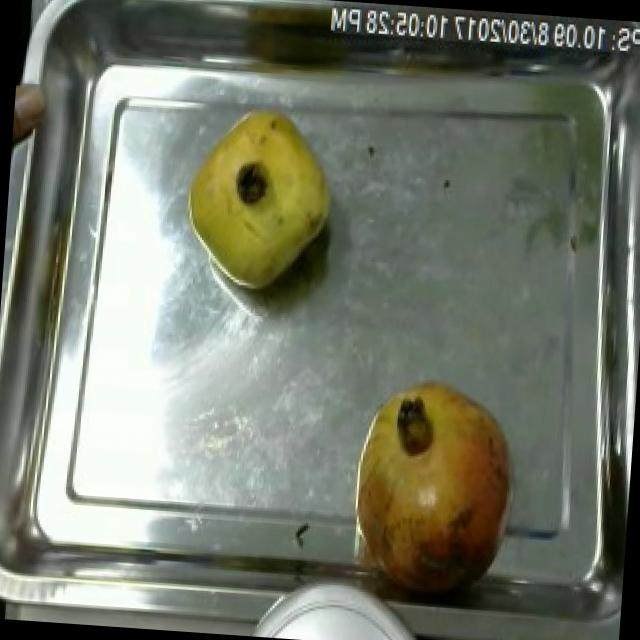fruit: (336, 362, 534, 610), (174, 95, 343, 303), (10, 70, 50, 164)
